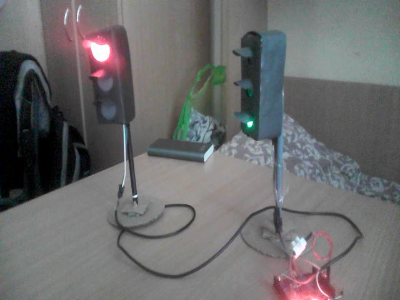trafficlight_green: (235, 33, 260, 138)
trafficlight_red: (82, 33, 127, 123)
